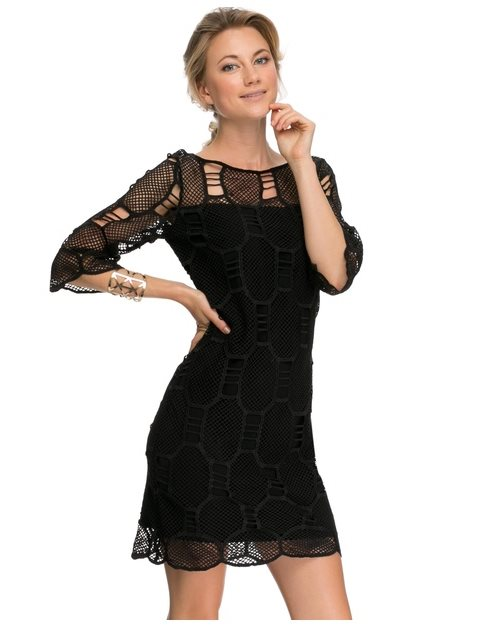S_dress: (46, 151, 355, 574)
